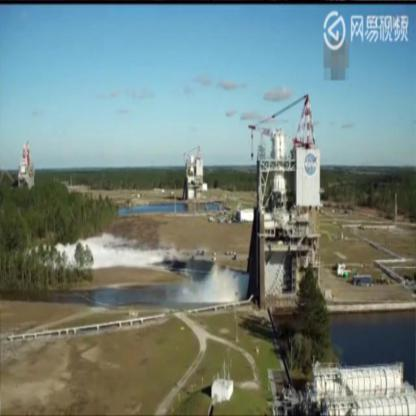smoke: (55, 232, 158, 266), (180, 264, 242, 304)
